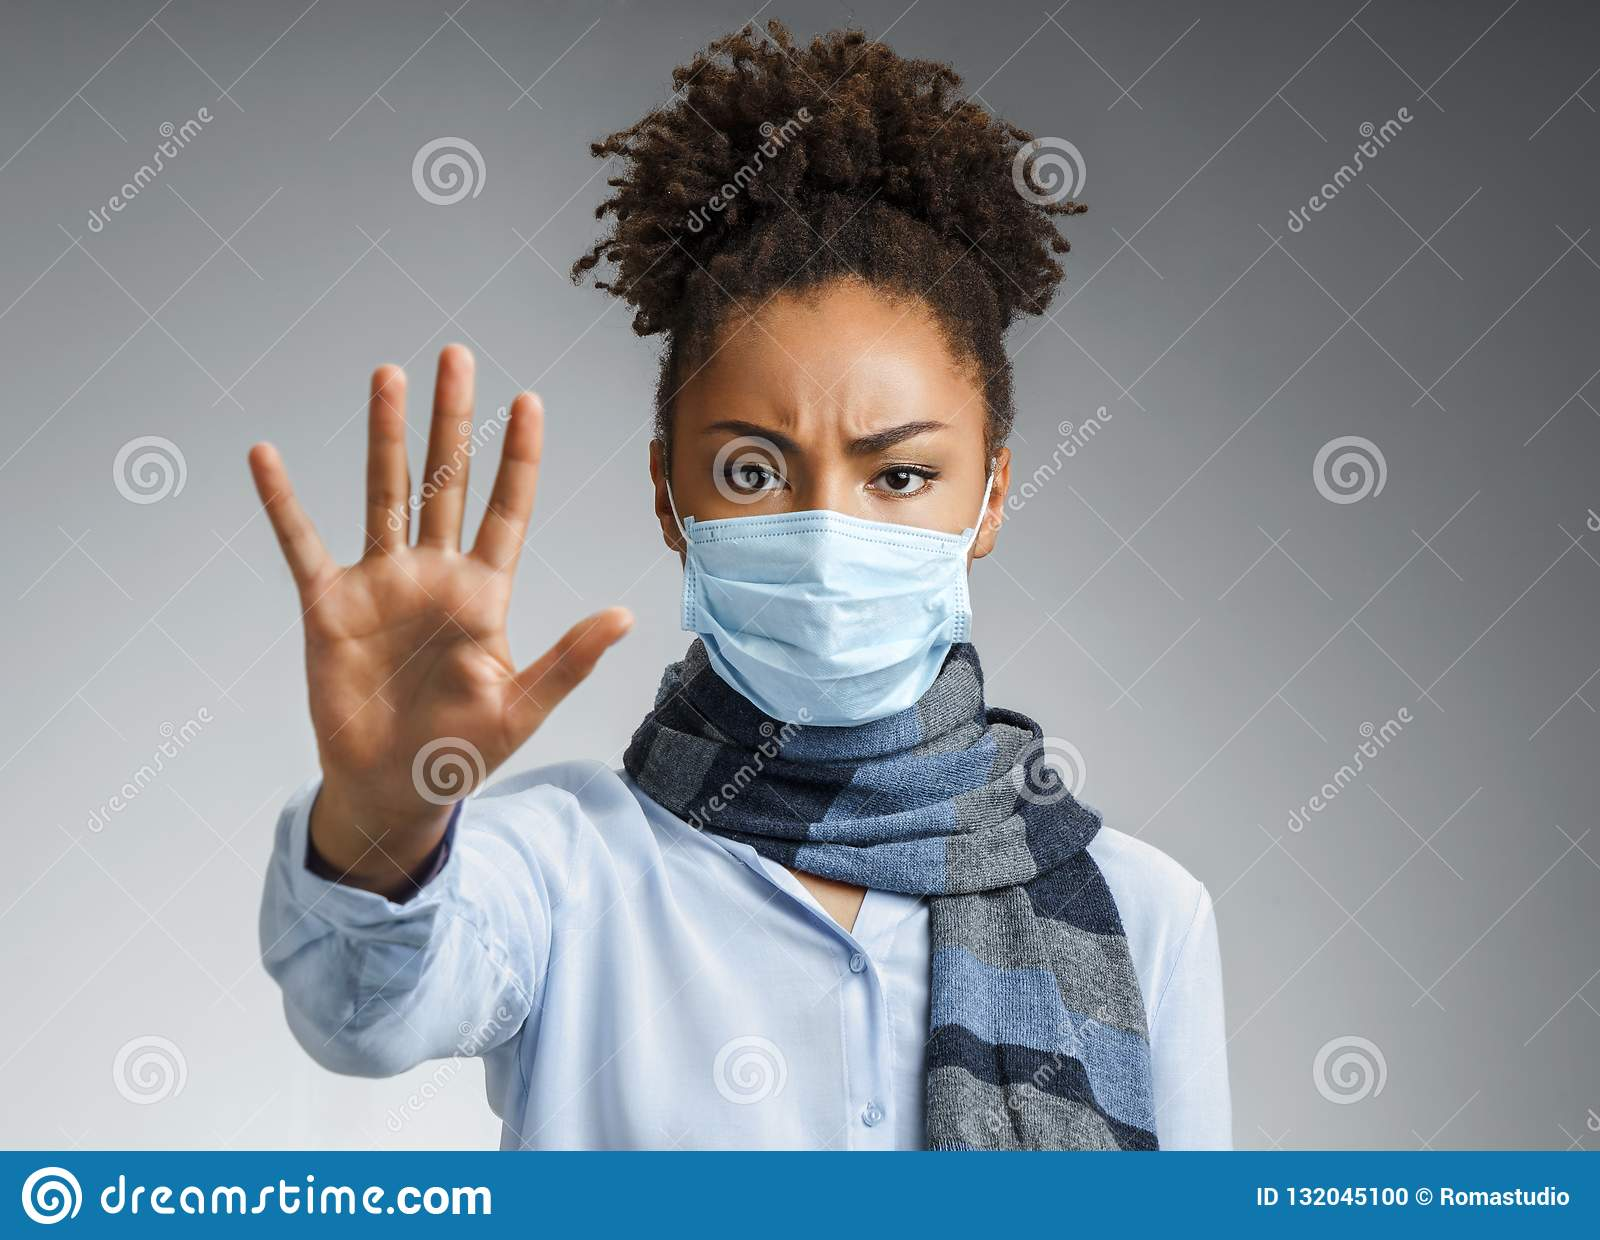mask: (683, 506, 979, 734)
